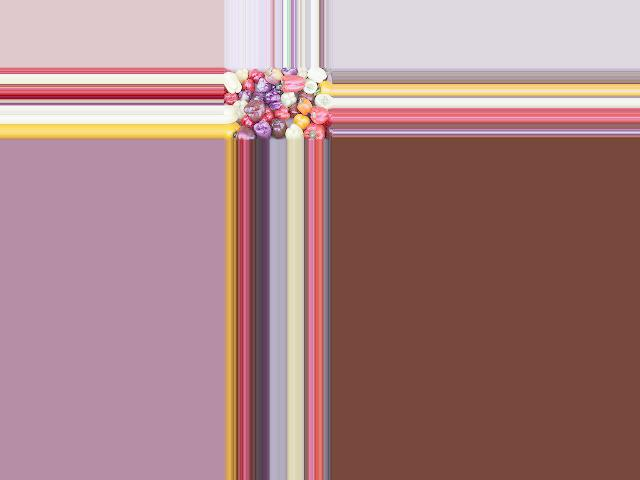bell_pepper: (312, 95, 332, 108)
